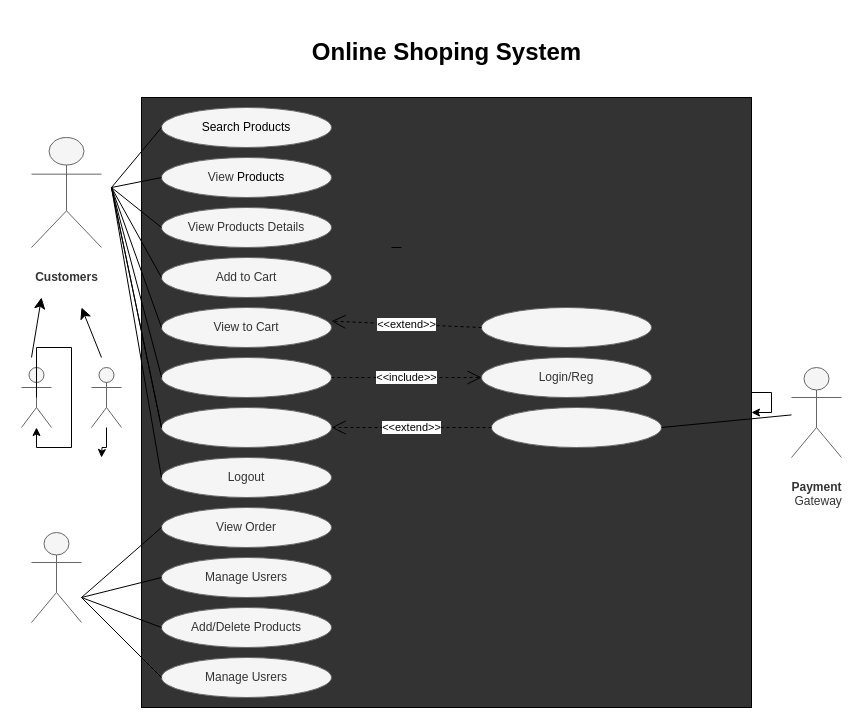
Image size: 859x725. Some labels were removed from this diagram. Here are the shapes that lost their labels. From the top down, the centre of each, then its label:
the point at 566,327: Discounts
the point at 36,397: Member
the point at 106,397: Non-member
the point at 246,377: Place Order
the point at 246,427: Track Order
the point at 576,427: Payment
the point at 56,577: Admin
